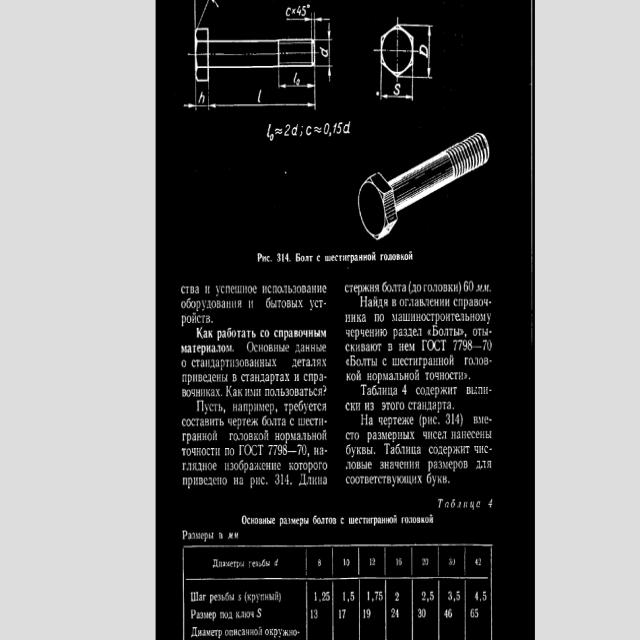marking_line: (207, 83, 315, 111), (413, 25, 434, 79), (285, 17, 331, 39), (185, 82, 217, 112), (379, 77, 414, 102), (328, 22, 332, 84), (210, 0, 218, 8)
numeric: (419, 43, 428, 58), (197, 90, 205, 104), (319, 46, 328, 58), (291, 124, 299, 137), (393, 83, 401, 95), (344, 121, 351, 134), (284, 124, 290, 137), (257, 89, 262, 103), (306, 125, 312, 136), (324, 123, 330, 134), (267, 124, 271, 139), (337, 122, 342, 134), (374, 590, 379, 602), (277, 444, 282, 456), (469, 280, 474, 292), (487, 339, 492, 351), (462, 340, 467, 352), (302, 5, 307, 16), (456, 590, 461, 601), (350, 591, 355, 602), (275, 474, 280, 485), (482, 340, 487, 351), (402, 384, 407, 395), (458, 339, 462, 352), (482, 592, 487, 602), (448, 608, 453, 618), (421, 591, 426, 601), (422, 608, 427, 618), (366, 608, 371, 618), (268, 445, 273, 455), (283, 445, 288, 455), (302, 445, 307, 455), (299, 126, 303, 138), (333, 123, 337, 135), (362, 608, 366, 620), (342, 608, 346, 620), (280, 474, 284, 486), (430, 592, 435, 601), (448, 590, 452, 601), (395, 591, 399, 602), (285, 474, 289, 485), (273, 445, 277, 456), (297, 444, 301, 455), (453, 340, 457, 351), (294, 73, 298, 83), (286, 8, 291, 16), (297, 6, 301, 16), (317, 560, 322, 568), (474, 591, 478, 601), (470, 608, 474, 618), (475, 609, 479, 619), (444, 609, 448, 619), (417, 608, 421, 618), (379, 591, 383, 601), (314, 609, 318, 619), (464, 281, 468, 291), (468, 340, 472, 350), (446, 414, 450, 424), (398, 557, 402, 566), (391, 609, 395, 618), (342, 592, 346, 601), (314, 592, 318, 601), (322, 592, 326, 601), (326, 592, 330, 601), (452, 413, 455, 425), (425, 558, 430, 565), (488, 500, 493, 507), (367, 591, 370, 602), (457, 413, 460, 424), (372, 558, 376, 566), (452, 559, 456, 567), (396, 609, 399, 619), (282, 252, 285, 262), (297, 79, 301, 86), (346, 559, 350, 566), (448, 558, 452, 565), (478, 558, 482, 565), (369, 557, 372, 566), (339, 610, 342, 619), (278, 253, 281, 262), (286, 254, 289, 263), (270, 135, 274, 141), (343, 558, 346, 566), (422, 558, 425, 565), (475, 559, 478, 566), (311, 609, 313, 619), (395, 559, 398, 565)
special_symbol: (277, 68, 316, 88), (275, 127, 282, 134), (314, 127, 321, 133), (292, 7, 296, 14), (290, 480, 293, 487), (306, 4, 310, 9), (376, 91, 380, 96), (426, 598, 429, 603), (347, 599, 350, 604), (307, 452, 310, 457), (329, 133, 332, 137), (325, 449, 328, 453), (372, 598, 374, 602), (319, 599, 321, 602), (481, 598, 482, 603)
